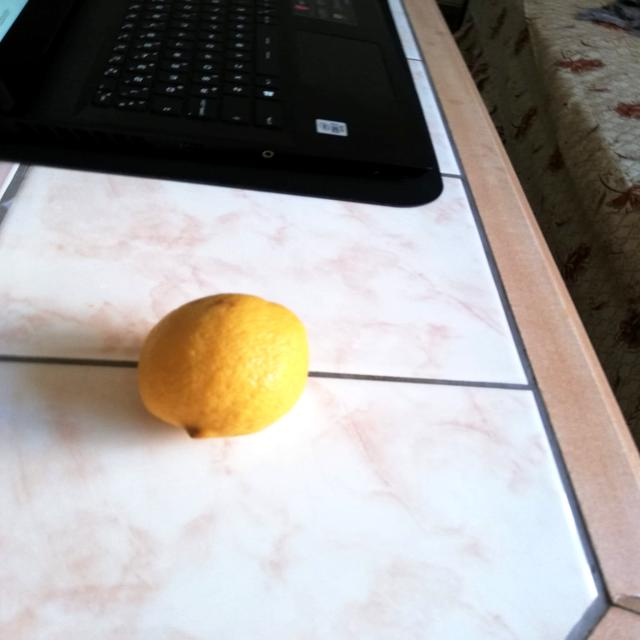lemon: (128, 284, 319, 445)
